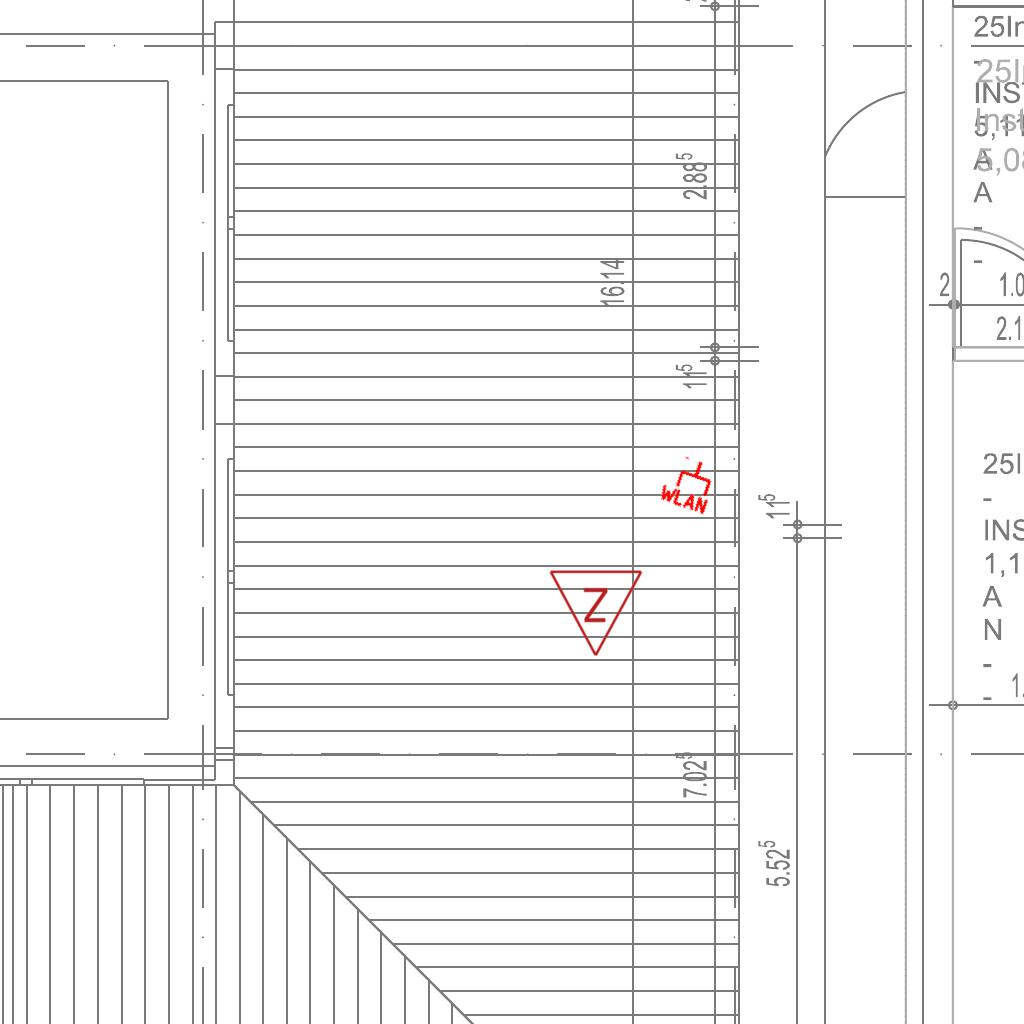WLAN: (655, 449, 723, 517)
Zimmersignalleuchte: (548, 563, 646, 663)
